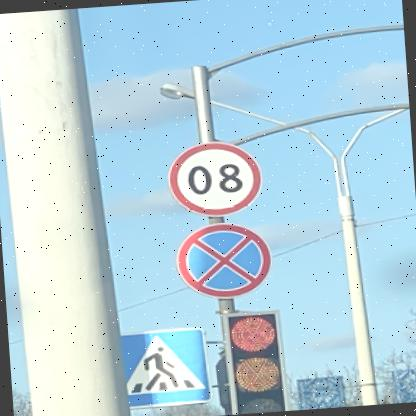crosswalk: (125, 326, 213, 406)
speedlimit: (168, 138, 267, 218)
trafficlight: (222, 306, 291, 414)
